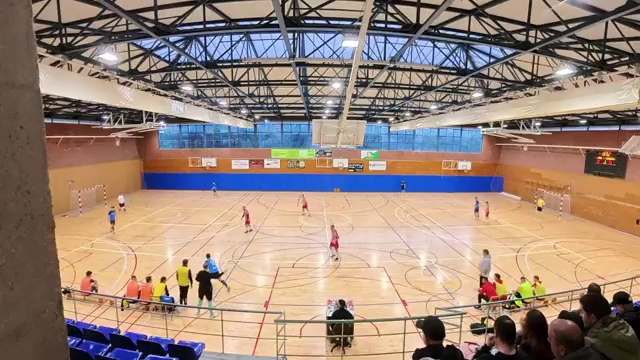players blue shirt: (204, 254, 221, 272), (108, 208, 115, 230), (474, 197, 480, 218), (212, 182, 217, 194)
players red shirt: (330, 225, 339, 260), (243, 206, 251, 232), (299, 195, 308, 214), (485, 201, 489, 219)
